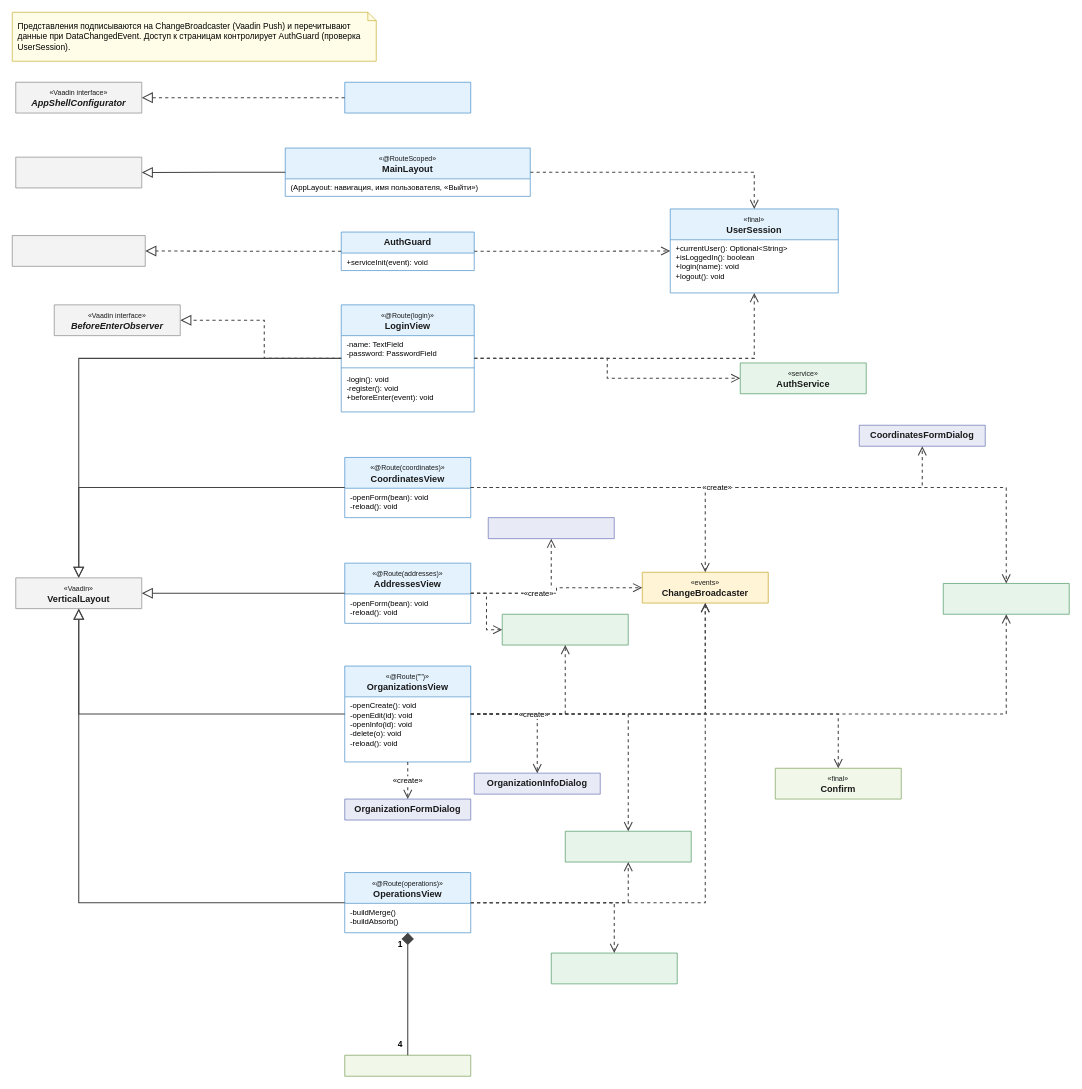
Some shapes in this 1082 by 1089 pixel diagram are drawn without their labels. The centre of each missing label's shape, as x and y in pixels:
"AddressFormDialog" goes at pixel 551 528.
"OrganizationPicker" goes at pixel 407 1065.
"«@Push» AppShell" goes at pixel 407 97.
"«service» AddressService" goes at pixel 565 629.
"«service» CoordinatesService" goes at pixel 1006 598.
"«service» OperationsService" goes at pixel 614 968.
"«service» OrganizationService" goes at pixel 628 846.
"«Vaadin interface» VaadinServiceInitListener" goes at pixel 78 250.
"«Vaadin» AppLayout" goes at pixel 78 172.
